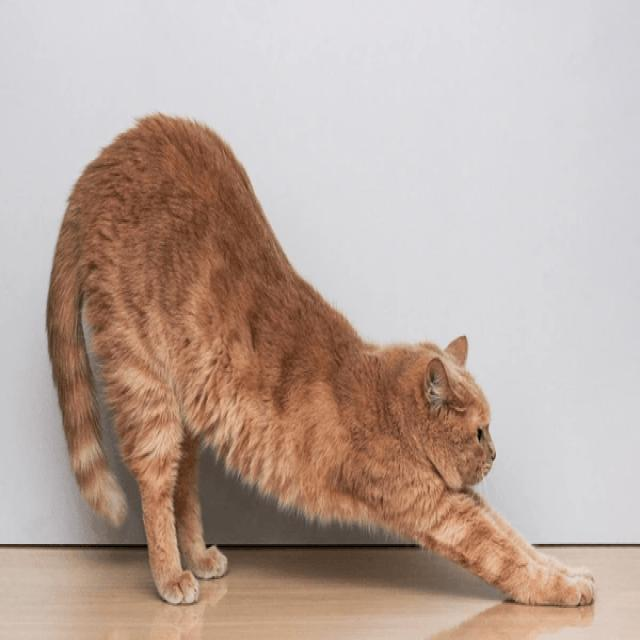Healthy skin: (106, 171, 230, 351), (258, 340, 348, 472), (378, 395, 423, 468), (123, 399, 166, 462), (402, 488, 462, 530)
